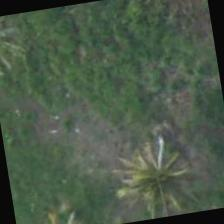Kelapa_Sawit: (93, 124, 198, 223), (11, 180, 107, 223)
